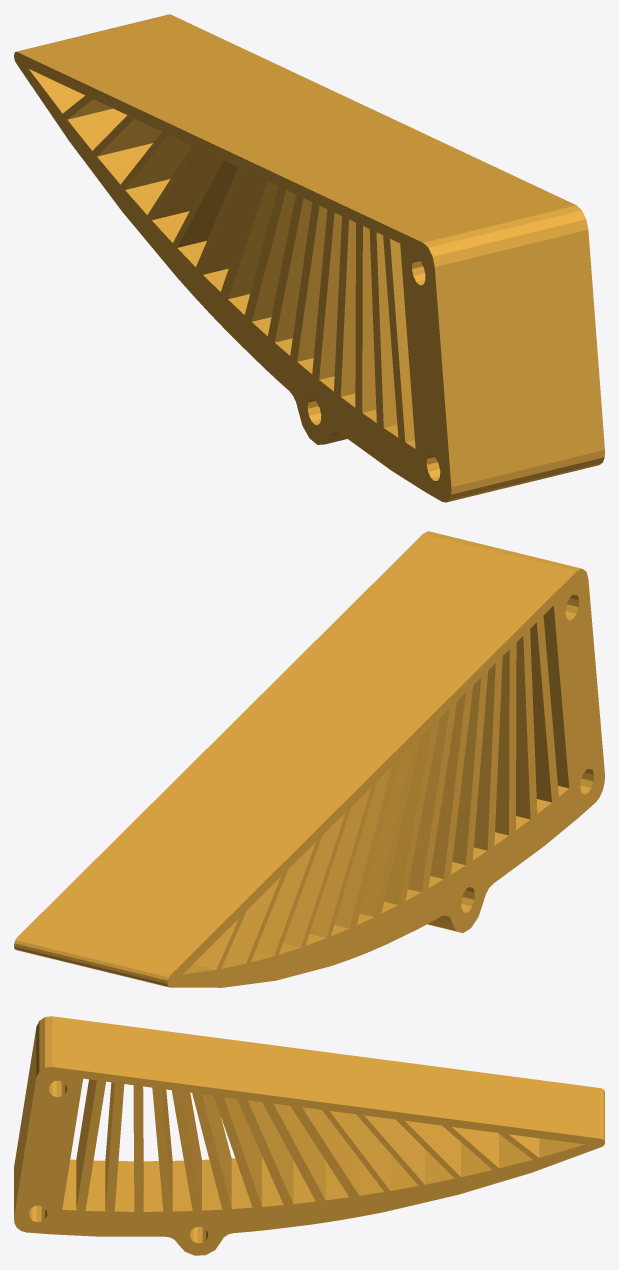
File: converted_left_finger_ebad3dff.obj
The picture shows the model from 3 angles, top to bottom: view 1: azimuth 30°, elevation 25°; view 2: azimuth 150°, elevation 25°; view 3: azimuth 270°, elevation 25°; orthographic projection. The views are drawn at different scales.
Size of the model in its own units: 0.0258 by 0.0448 by 0.1272.
